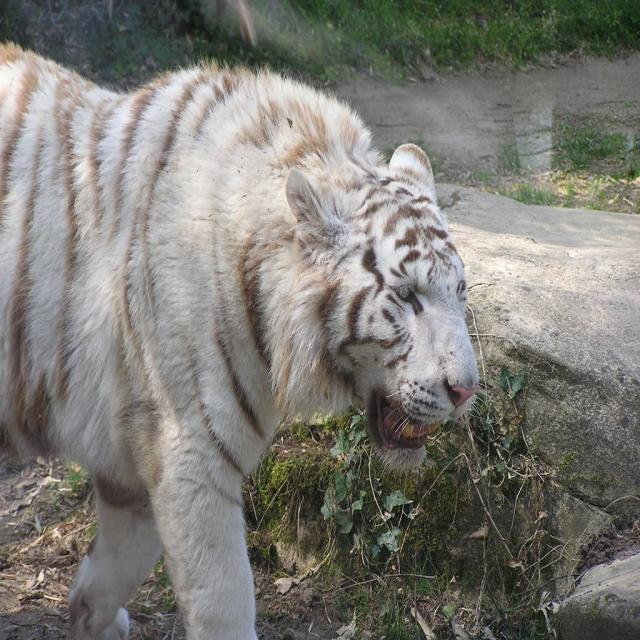Tiger: (0, 39, 485, 639)
